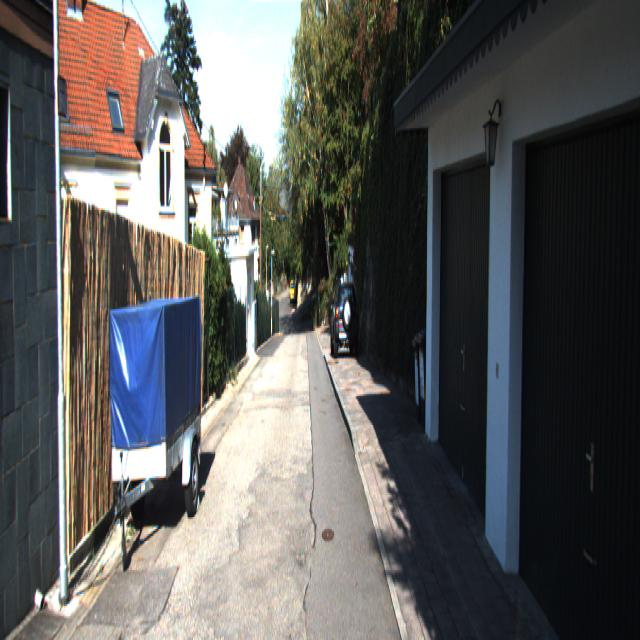Car: (110, 294, 204, 556), (329, 282, 360, 362)
